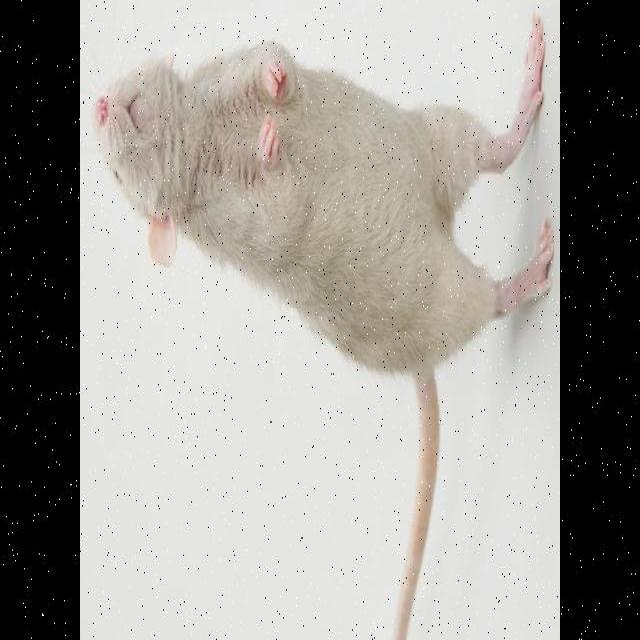rat: (82, 8, 554, 444)
